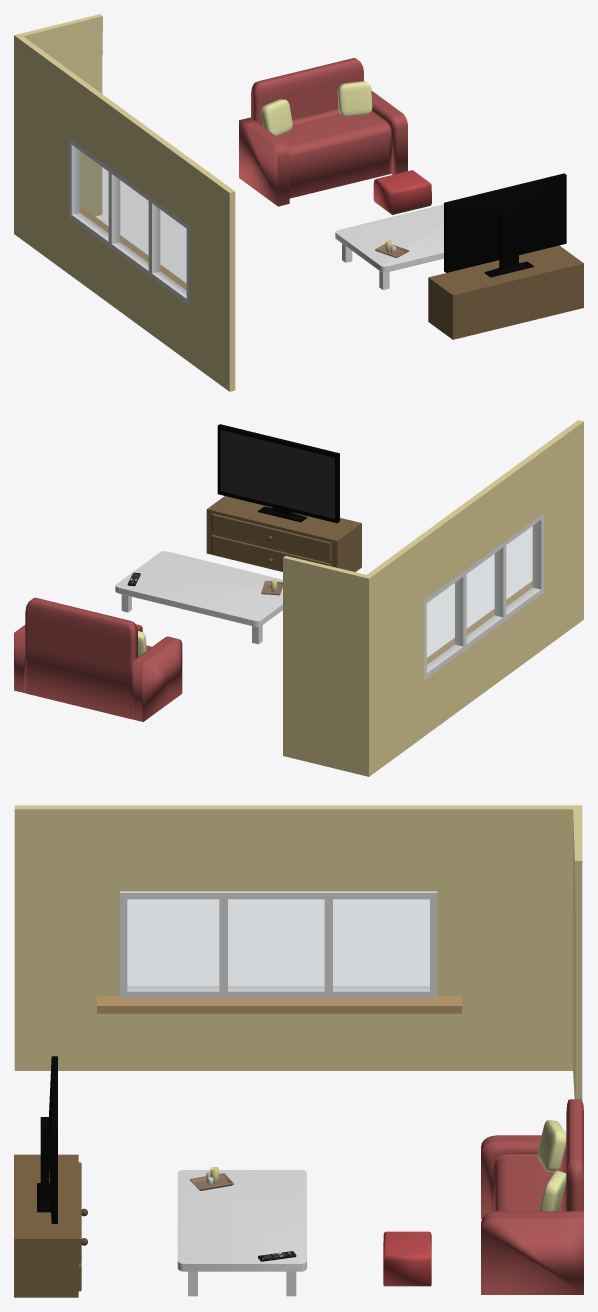
Rendered from LOUNGE SCENE.fbx.
3 views of the same model, one above another, from view 1: azimuth 30°, elevation 25°; view 2: azimuth 150°, elevation 25°; view 3: azimuth 270°, elevation 25° (orthographic). The views are drawn at different scales.
Visible parts, largest first — view 1: Cube.001, Cube.003, Cube, Cube.006, Cube.005, Cube.002, Cube.004; view 2: Cube.001, Cube.003, Cube.006, Cube, Cube.005; view 3: Cube.001, Cube.003, Cube.005, Cube, Cube.004, Cube.006, Cube.002.
Part boxes in pixels (left/top/right/bottom): Cube.001: left=14, top=14, right=235, bottom=391; Cube.003: left=239, top=58, right=407, bottom=206; Cube: left=428, top=245, right=583, bottom=339; Cube.006: left=444, top=173, right=566, bottom=277; Cube.005: left=335, top=204, right=443, bottom=289; Cube.002: left=261, top=81, right=372, bottom=136; Cube.004: left=373, top=170, right=431, bottom=214; Cube.001: left=283, top=420, right=583, bottom=776; Cube.003: left=14, top=597, right=182, bottom=721; Cube.006: left=217, top=424, right=339, bottom=523; Cube: left=206, top=496, right=361, bottom=571; Cube.005: left=115, top=551, right=282, bottom=644; Cube.001: left=14, top=805, right=582, bottom=1100; Cube.003: left=481, top=1099, right=583, bottom=1294; Cube.005: left=177, top=1170, right=306, bottom=1296; Cube: left=14, top=1154, right=87, bottom=1297; Cube.004: left=383, top=1231, right=431, bottom=1286; Cube.006: left=37, top=1056, right=57, bottom=1223; Cube.002: left=537, top=1120, right=566, bottom=1211.
Size of the model in its own units: 1284 by 684 by 1336.
